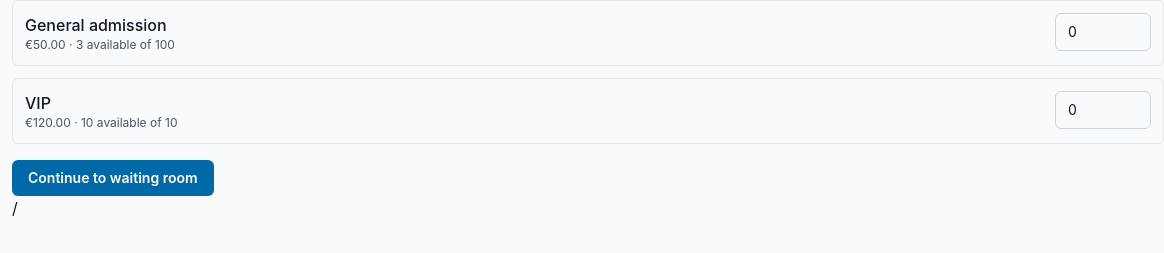
ticket selection validation › rejects a quantity above the live availability of the ticket type
Replace the text in the number field labelled "General admission" with "5" at (1103, 32), box [1055,13,1151,51]
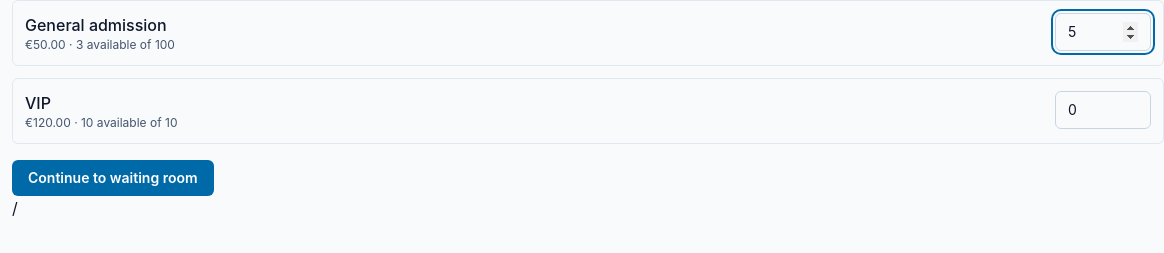
Click the button "Continue to waiting room" at (113, 178), box [12,160,214,196]
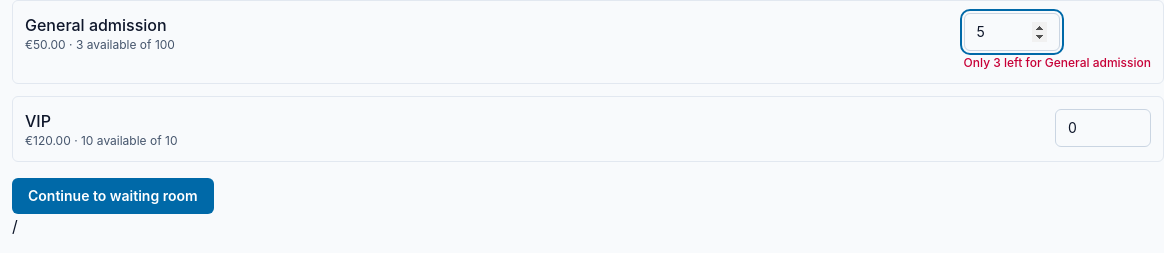
Expected: the text with test id "location" reads "/", [12,216,18,236]
Expected: the text "Only 3 left for General admission" is shown, [964,55,1151,71]
